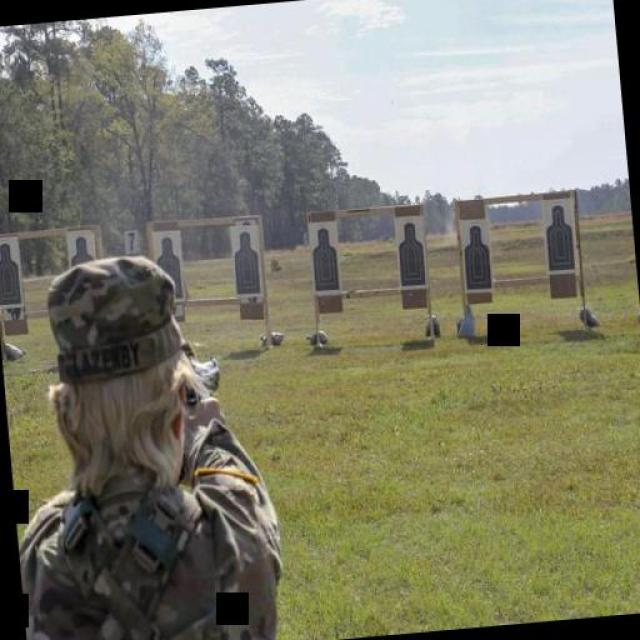gun: (178, 351, 222, 410)
